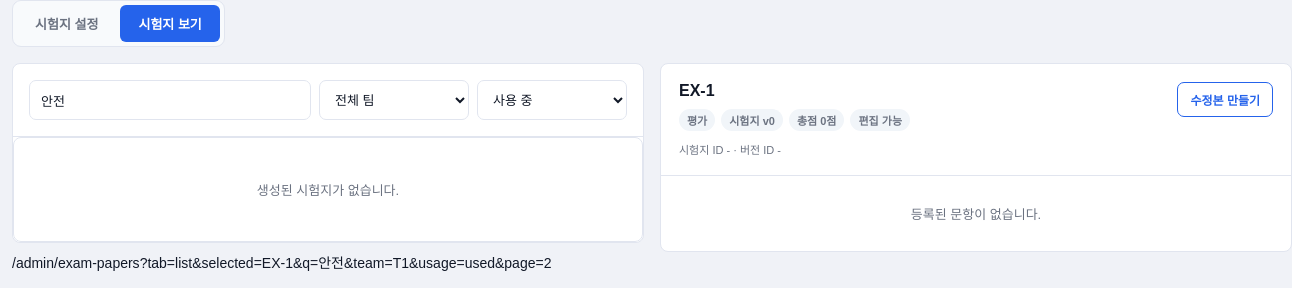
it: ExamPaperPage query-owned tabs › selects setup by default and removes list-only query when switching tabs
This screenshot has width=1292, height=288.
Click the tab "시험지 설정": click(67, 24) [17,5,116,42]
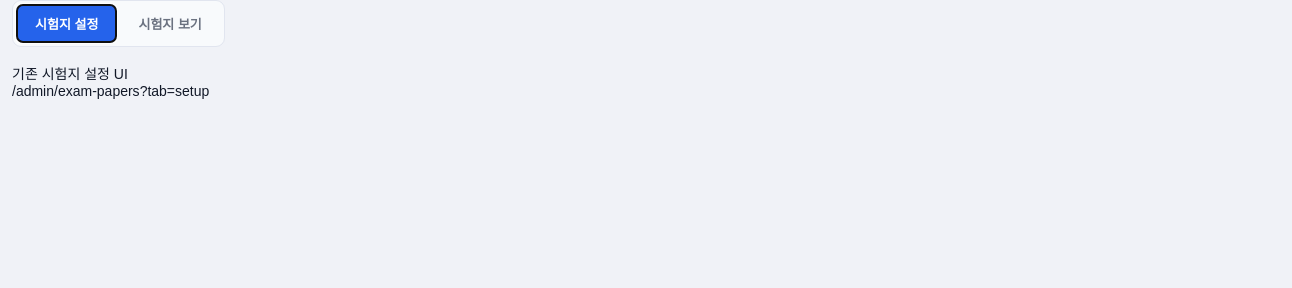
Now the text with test id "location" reads "/admin/exam-papers?tab=setup", box [12,83,209,99]
Now the text "기존 시험지 설정 UI" is shown, box [12,66,128,82]
